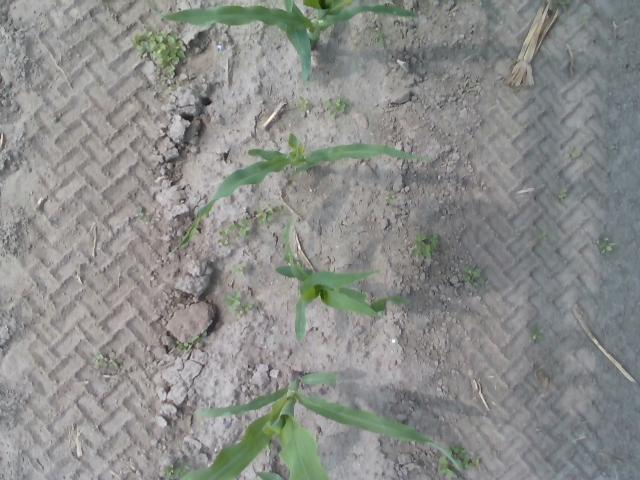Maize: (165, 134, 425, 260), (179, 373, 468, 480), (150, 0, 418, 82), (275, 218, 410, 342), (250, 465, 285, 480)
Weeds: (136, 30, 187, 79), (411, 232, 439, 256), (327, 98, 346, 117), (596, 237, 616, 252), (234, 219, 251, 236), (227, 292, 242, 311), (255, 212, 273, 224), (437, 456, 448, 474), (454, 442, 468, 456), (468, 266, 482, 280), (232, 264, 245, 277), (167, 464, 181, 476), (136, 207, 148, 221), (298, 96, 310, 110), (566, 147, 576, 161), (532, 328, 542, 340), (220, 232, 230, 244), (386, 192, 397, 202), (90, 354, 102, 363), (176, 341, 188, 348), (242, 304, 252, 312), (236, 310, 244, 319), (560, 190, 568, 198), (510, 230, 520, 236), (538, 232, 547, 238)
